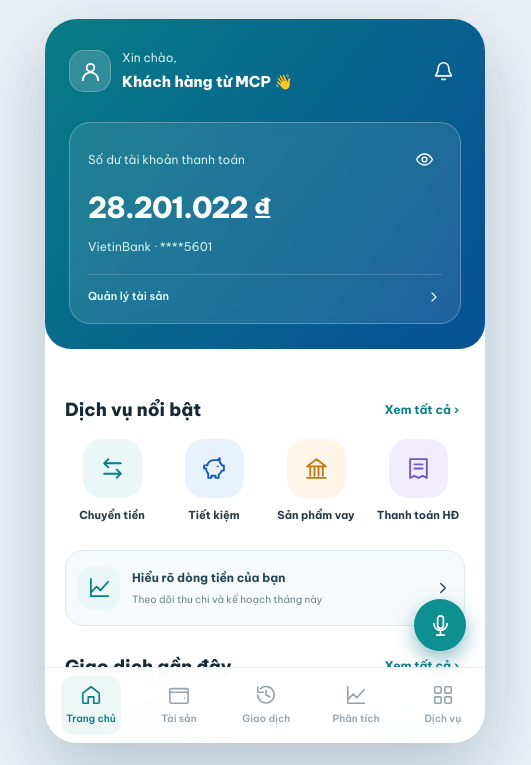
Scenario: keeps home compact and groups savings and loans under the Assets tab
Expected: the text "Sổ tiết kiệm 12 tháng" is not shown
Expected: the text "Khoản vay mua ô tô" is not shown
Click the button "Tài sản". click: click(179, 706)
box: left=153, top=676, right=205, bottom=735
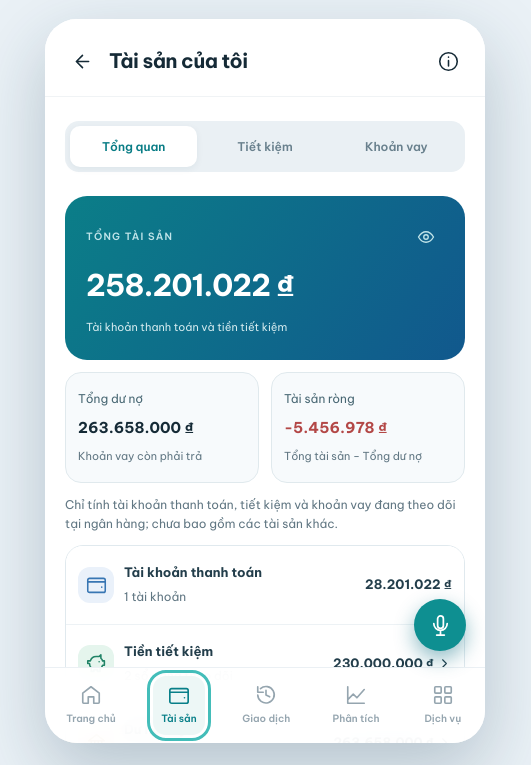
Expected: the heading "Sổ tiết kiệm 12 tháng" is not shown
Expected: the text "258.201.022 ₫" is shown, left=86, top=266, right=294, bottom=304
Click the button "Tiết kiệm". click: click(265, 147)
box: left=201, top=126, right=329, bottom=167
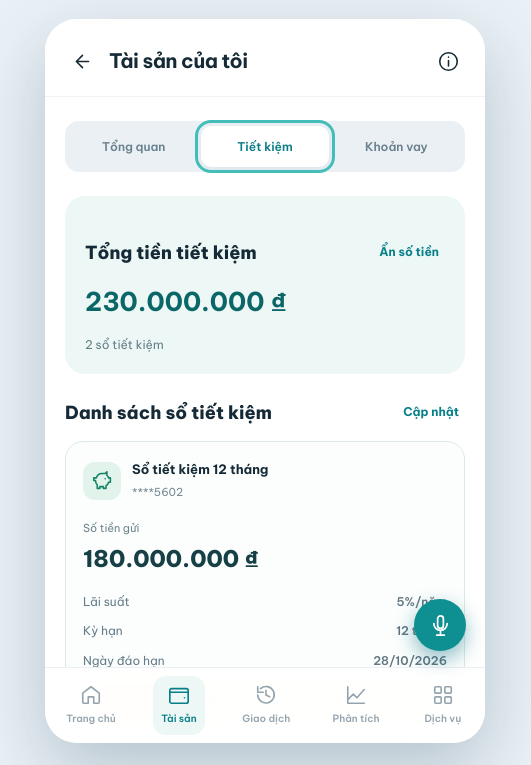
Expected: the text "230.000.000 ₫" is shown, left=85, top=285, right=287, bottom=318
Expected: the text "180.000.000 ₫" is shown, left=83, top=544, right=259, bottom=573
Expected: the text "28/10/2026" is shown, left=373, top=650, right=447, bottom=670
Click the button "Ẩn số tiền". click: click(409, 253)
box: left=373, top=243, right=445, bottom=262
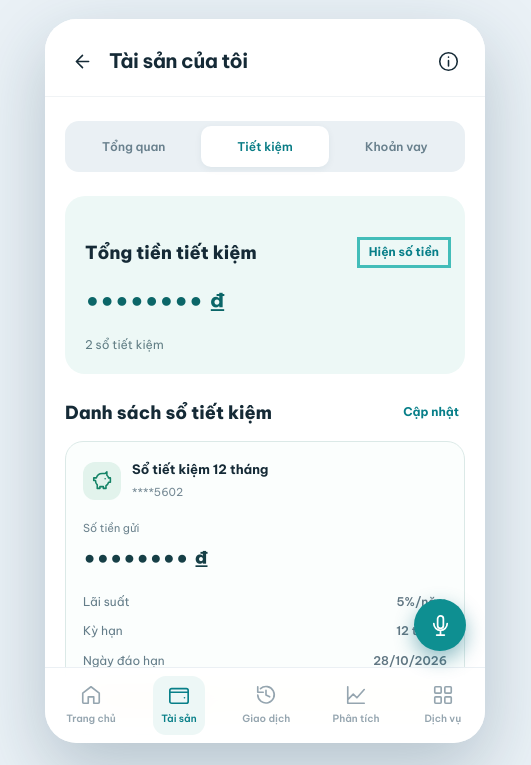
Expected: the text "263.658.000 ₫" is not shown
Expected: the text "230.000.000 ₫" is gone
Expected: the text "180.000.000 ₫" is gone
Click the button "Hiện số tiền". click: click(404, 253)
box: left=363, top=243, right=445, bottom=262
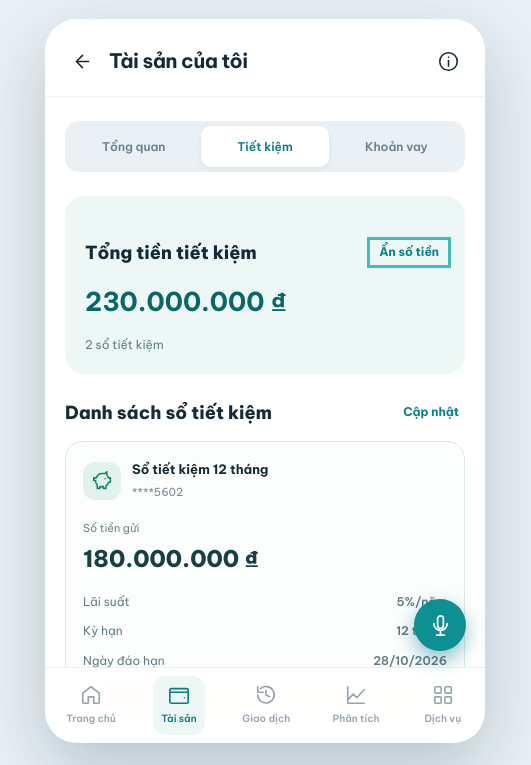
Click the button "Khoản vay". click: click(396, 147)
box: left=333, top=126, right=460, bottom=167
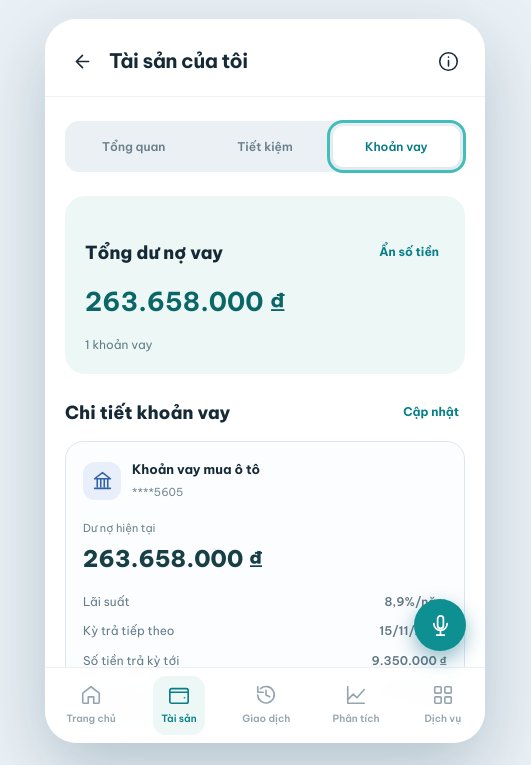
Expected: the heading "Tài sản của tôi" is shown, left=109, top=48, right=248, bottom=73
Expected: the heading "Khoản vay mua ô tô" is shown, left=132, top=459, right=260, bottom=480
Expected: the text "15/11/2026" is shown, left=379, top=621, right=447, bottom=640
Click the button "Tiết kiệm". click: click(265, 147)
box: left=201, top=126, right=329, bottom=167
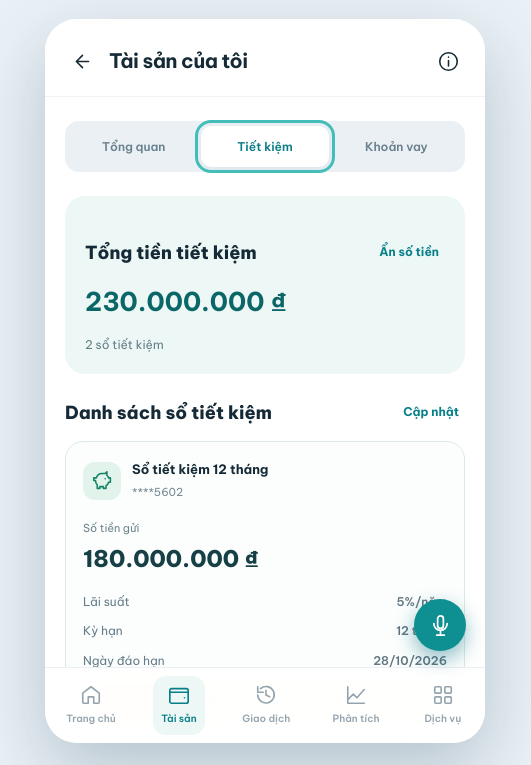
Expected: the heading "Sổ tiết kiệm 12 tháng" is shown, left=132, top=459, right=268, bottom=480
Expected: the heading "Khoản vay mua ô tô" is gone
